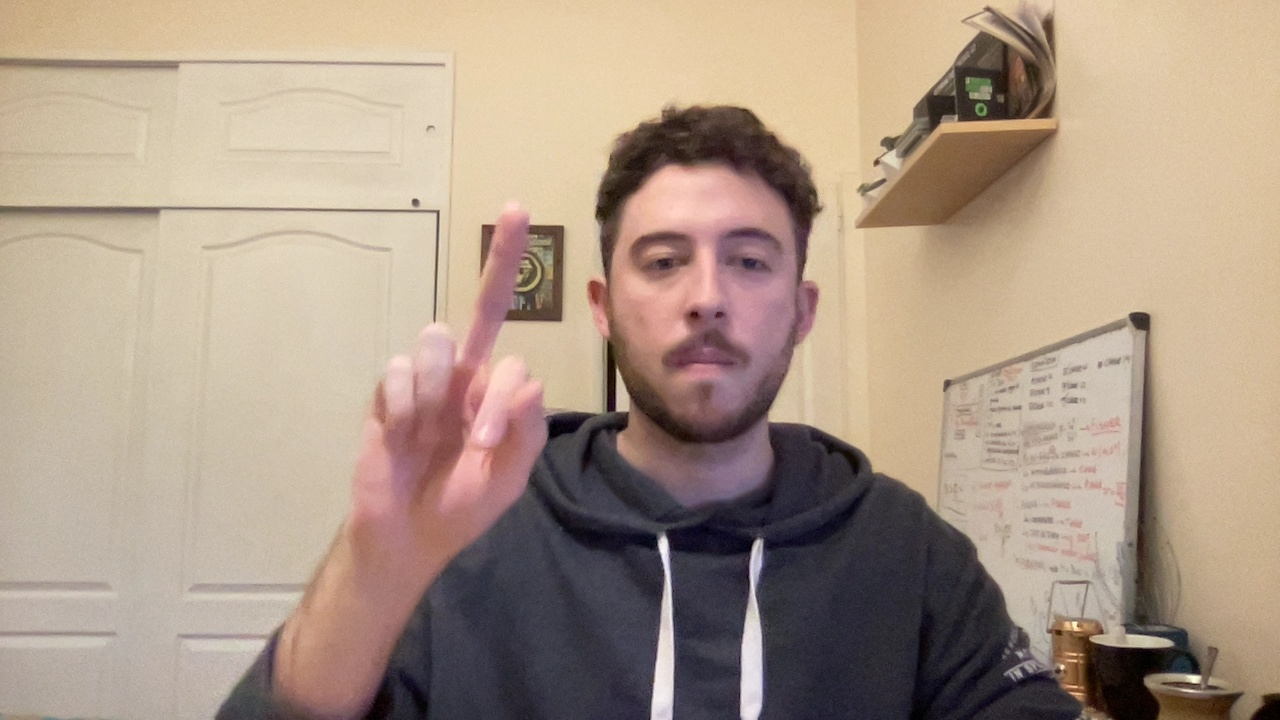mayor: (357, 202, 568, 539)
